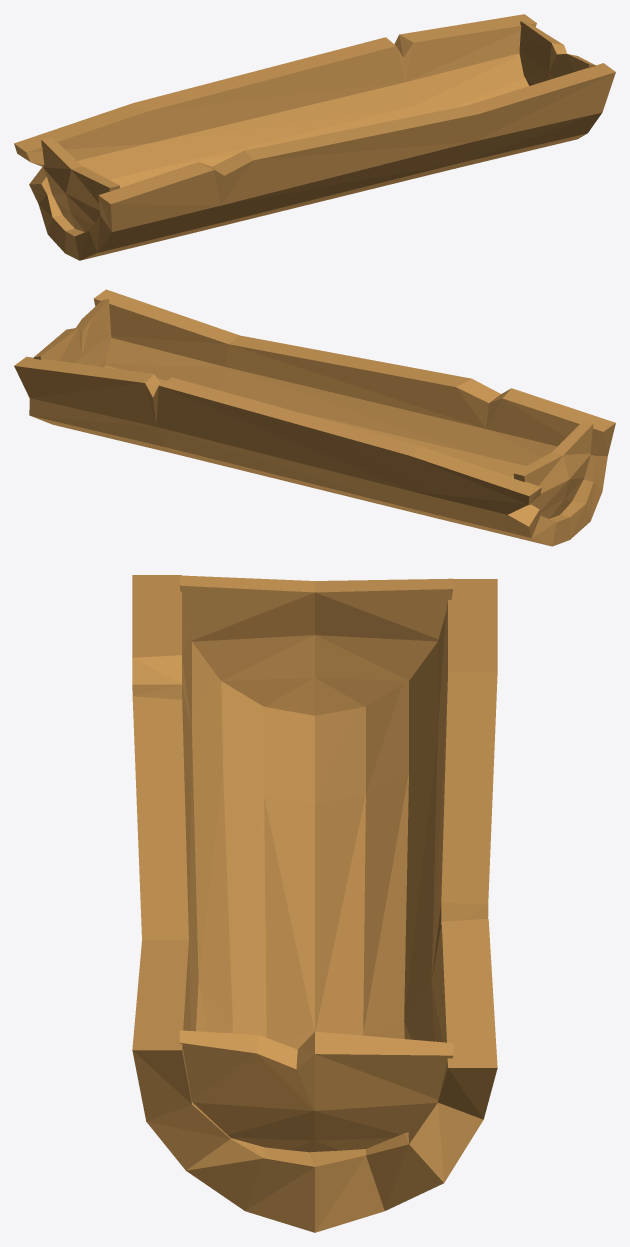
Rendered from Through.fbx.
3 renders of one model, top to bottom at view 1: azimuth 30°, elevation 25°; view 2: azimuth 150°, elevation 25°; view 3: azimuth 270°, elevation 25°, orthographic. The views are drawn at different scales.
Visible parts, largest first — view 1: Trough; view 2: Trough; view 3: Trough.
Boxes of the visible parts, x1=… form: Trough: x1=14, y1=14, x2=615, y2=260; Trough: x1=14, y1=289, x2=615, y2=546; Trough: x1=132, y1=575, x2=497, y2=1232.
Size of the model in its own units: 171 by 30.89 by 53.07.
